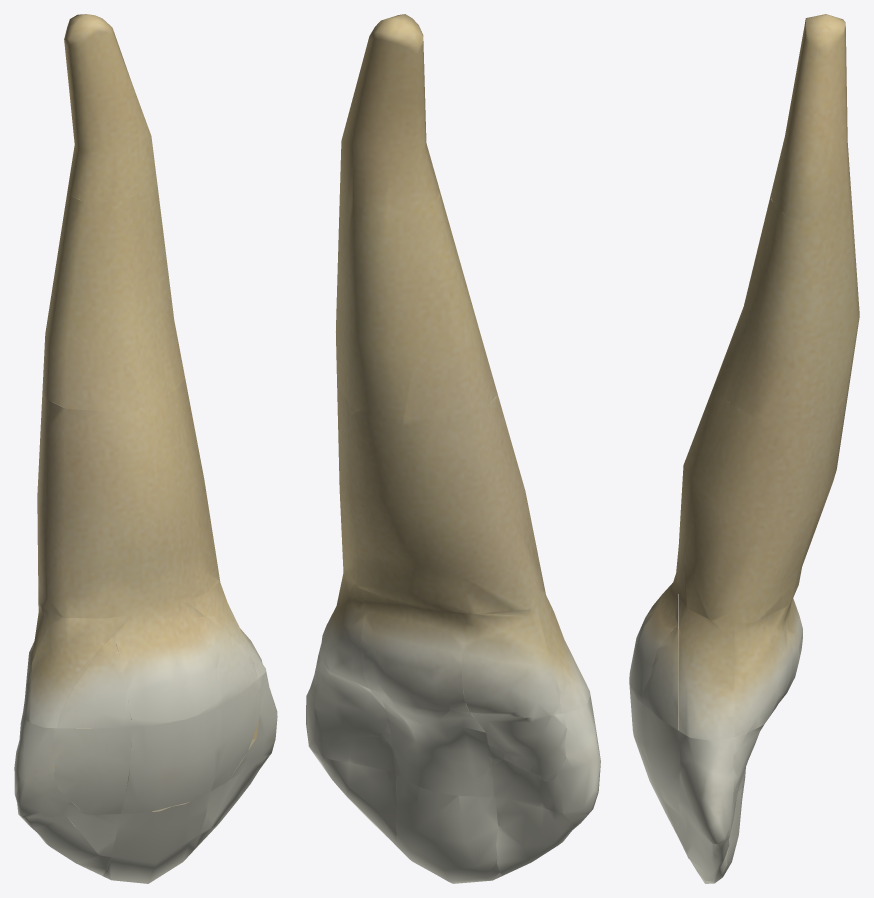
File: Left_Upper_Canine.glb
The picture shows the model from 3 angles, left to right: view 1: azimuth 30°, elevation 25°; view 2: azimuth 150°, elevation 25°; view 3: azimuth 270°, elevation 25°; orthographic projection. The views are drawn at different scales.
Parts seen in each view (by area): view 1: Human_Teeth_Upper_Canine_Geo.005; view 2: Human_Teeth_Upper_Canine_Geo.005; view 3: Human_Teeth_Upper_Canine_Geo.005.
Part boxes in pixels (x1,y1,x2,y2): Human_Teeth_Upper_Canine_Geo.005: [14, 14, 277, 883]; Human_Teeth_Upper_Canine_Geo.005: [306, 14, 600, 883]; Human_Teeth_Upper_Canine_Geo.005: [629, 14, 859, 883].
Size of the model in its own units: 0.9588 by 2.91 by 0.7057.
Materials: 30 (30 with a texture image).
